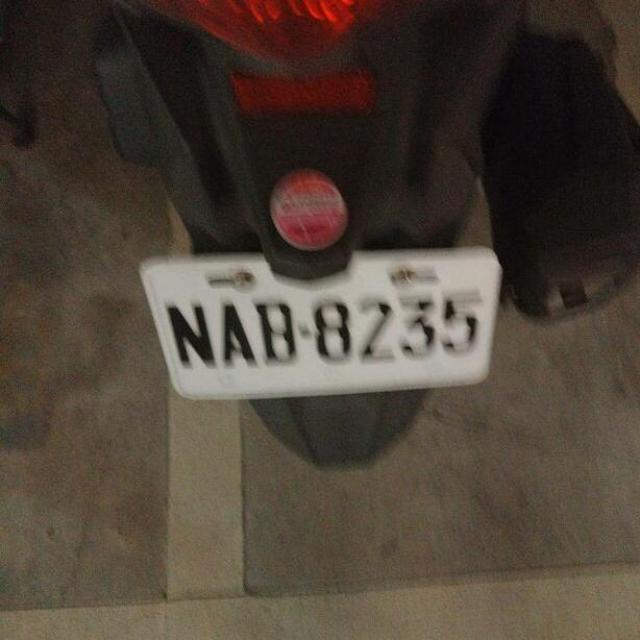W: (135, 223, 519, 416)
